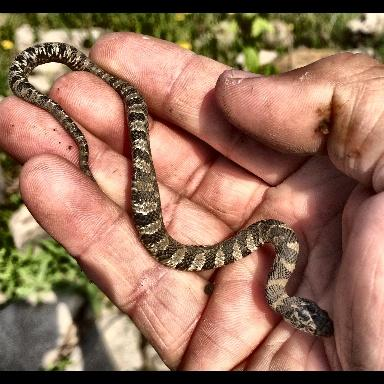snake: (115, 81, 334, 338)
